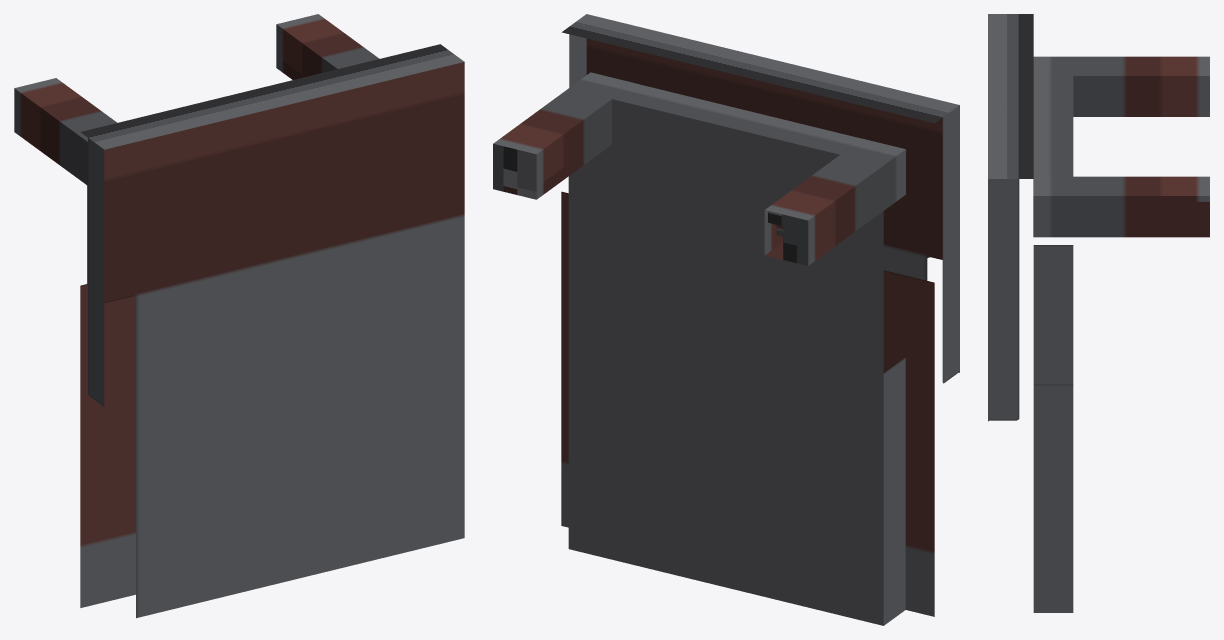
Rendered from section-0.obj.
3 views of the same model, side by side, from view 1: azimuth 30°, elevation 25°; view 2: azimuth 150°, elevation 25°; view 3: azimuth 270°, elevation 25° (orthographic). The views are drawn at different scales.
Bounding box in the file's own units: 0.687 × 0.868 × 0.3905.
